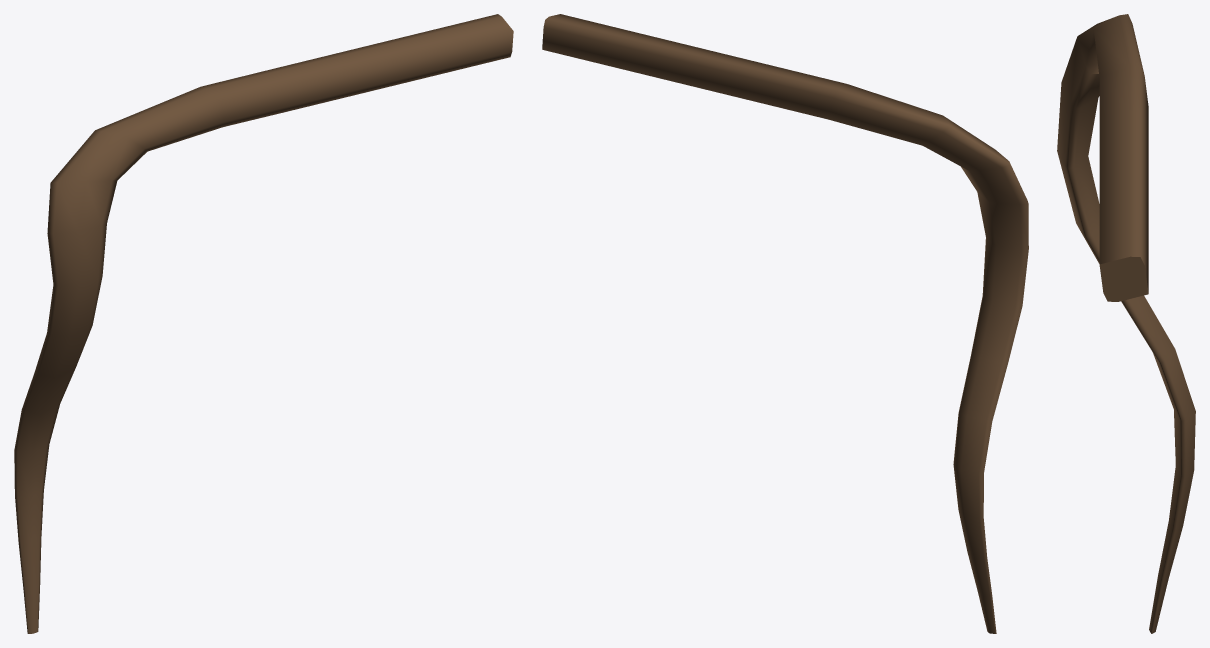
Rendered from SM_Skyisland_Root_Var5.fbx.
3 renders of one model, left to right at view 1: azimuth 30°, elevation 25°; view 2: azimuth 150°, elevation 25°; view 3: azimuth 270°, elevation 25°, orthographic. The views are drawn at different scales.
Parts seen in each view (by area): view 1: BezierCurve.067; view 2: BezierCurve.067; view 3: BezierCurve.067.
Part boxes in pixels (x1,y1,x2,y2): BezierCurve.067: [14, 14, 513, 633]; BezierCurve.067: [542, 14, 1028, 633]; BezierCurve.067: [1057, 14, 1195, 633].
Size of the model in its own units: 486 by 502 by 94.43.
